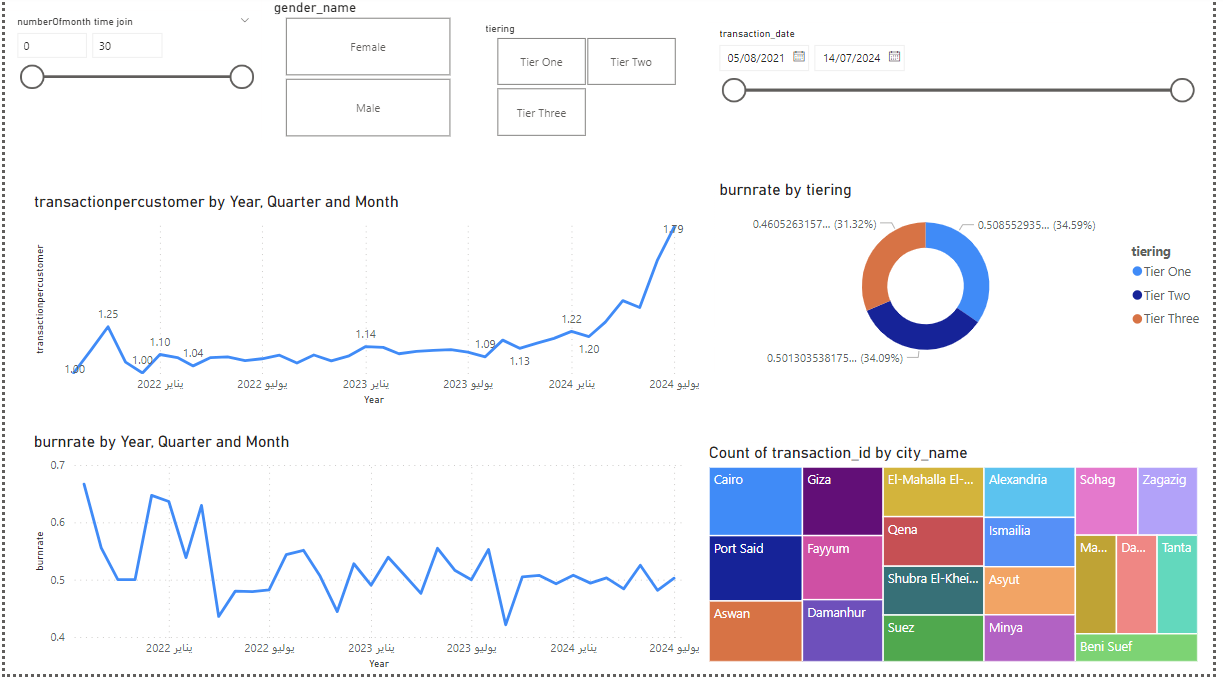

What the dashboard file says about the page in this screenshot:
{"tool":"powerbi","page":{"name":"Page 1","canvas":[1280,720],"ordinal":0},"visuals":[{"type":"lineChart","fields":{"Category":["transactions4.transaction_date.Variation.Date Hierarchy.Year","transactions4.transaction_date.Variation.Date Hierarchy.Quarter","transactions4.transaction_date.Variation.Date Hierarchy.Month","transactions4.transaction_date.Variation.Date Hierarchy.Day"],"Y":["transactions4.transactionpercustomer"]},"box":[25.4,209.8,715.2,230.5],"z":0},{"type":"slicer","fields":{"Values":["transactions4.transaction_date"]},"box":[743.8,30.2,524.5,122.4],"z":1000},{"type":"treemap","fields":{"Group":["cities3.city_name"],"Values":["CountNonNull(transactions4.transaction_id)"]},"box":[740.7,475.2,527.7,236.8],"z":2000},{"type":"lineChart","fields":{"Category":["transactions4.transaction_date.Variation.Date Hierarchy.Year","transactions4.transaction_date.Variation.Date Hierarchy.Quarter","transactions4.transaction_date.Variation.Date Hierarchy.Month","transactions4.transaction_date.Variation.Date Hierarchy.Day"],"Y":["transactions4.burnrate"]},"box":[25.4,464.1,715.2,255.9],"z":3000},{"type":"donutChart","fields":{"Category":["customers1.tiering"],"Y":["transactions4.burnrate"]},"box":[751.8,197.1,527.7,203.4],"z":4000},{"type":"slicer","fields":{"Values":["customers1.tiering"]},"box":[495.9,25.4,238.4,131.9],"z":5000},{"type":"slicer","fields":{"Values":["genders2.gender_name"]},"box":[271.8,0,224.1,157.4],"z":6000},{"type":"slicer","fields":{"Values":["1st transaction.numberOfmonth time join"]},"box":[0,17.5,271.8,135.1],"z":7000}]}

Visuals, with their boxes in screenshot pixels (x1, y1, x2, y2), scaled from the page's 1280x720 canvas onto the 1223x681 screenshot:
lineChart - transactions4.transaction_date.Variation.Date Hierarchy.Year x transactions4.transaction_date.Variation.Date Hierarchy.Quarter: locate(24, 198, 708, 416)
slicer - transactions4.transaction_date: locate(711, 29, 1212, 144)
treemap - cities3.city_name x CountNonNull(transactions4.transaction_id): locate(708, 449, 1212, 673)
lineChart - transactions4.transaction_date.Variation.Date Hierarchy.Year x transactions4.transaction_date.Variation.Date Hierarchy.Quarter: locate(24, 439, 708, 680)
donutChart - customers1.tiering x transactions4.burnrate: locate(718, 186, 1222, 379)
slicer - customers1.tiering: locate(474, 24, 702, 149)
slicer - genders2.gender_name: locate(260, 0, 474, 149)
slicer - 1st transaction.numberOfmonth time join: locate(0, 17, 260, 144)
